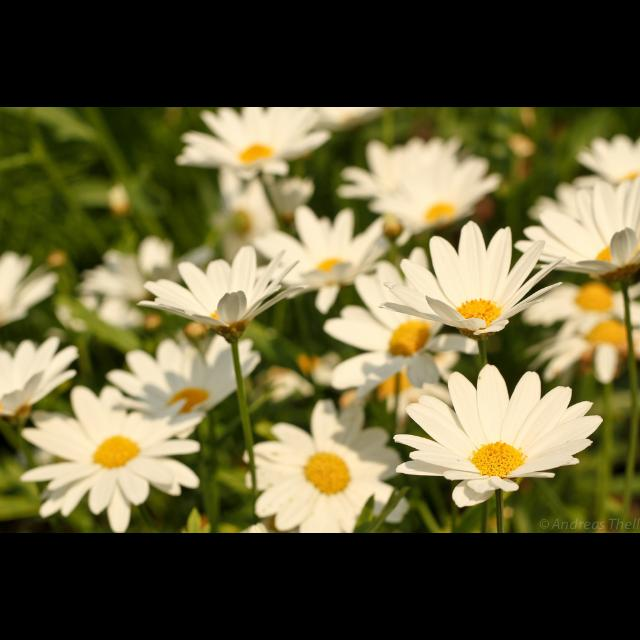Flower: (394, 364, 600, 506), (22, 384, 200, 534), (244, 401, 406, 534), (338, 140, 506, 248), (109, 323, 263, 437), (246, 206, 392, 314), (516, 175, 638, 282), (174, 108, 330, 178), (74, 236, 212, 304), (523, 318, 639, 388), (518, 276, 640, 340), (208, 167, 290, 261), (0, 338, 80, 418), (526, 178, 640, 222), (0, 252, 60, 331), (575, 133, 639, 187), (92, 294, 160, 336), (298, 350, 340, 390), (265, 366, 317, 396)
